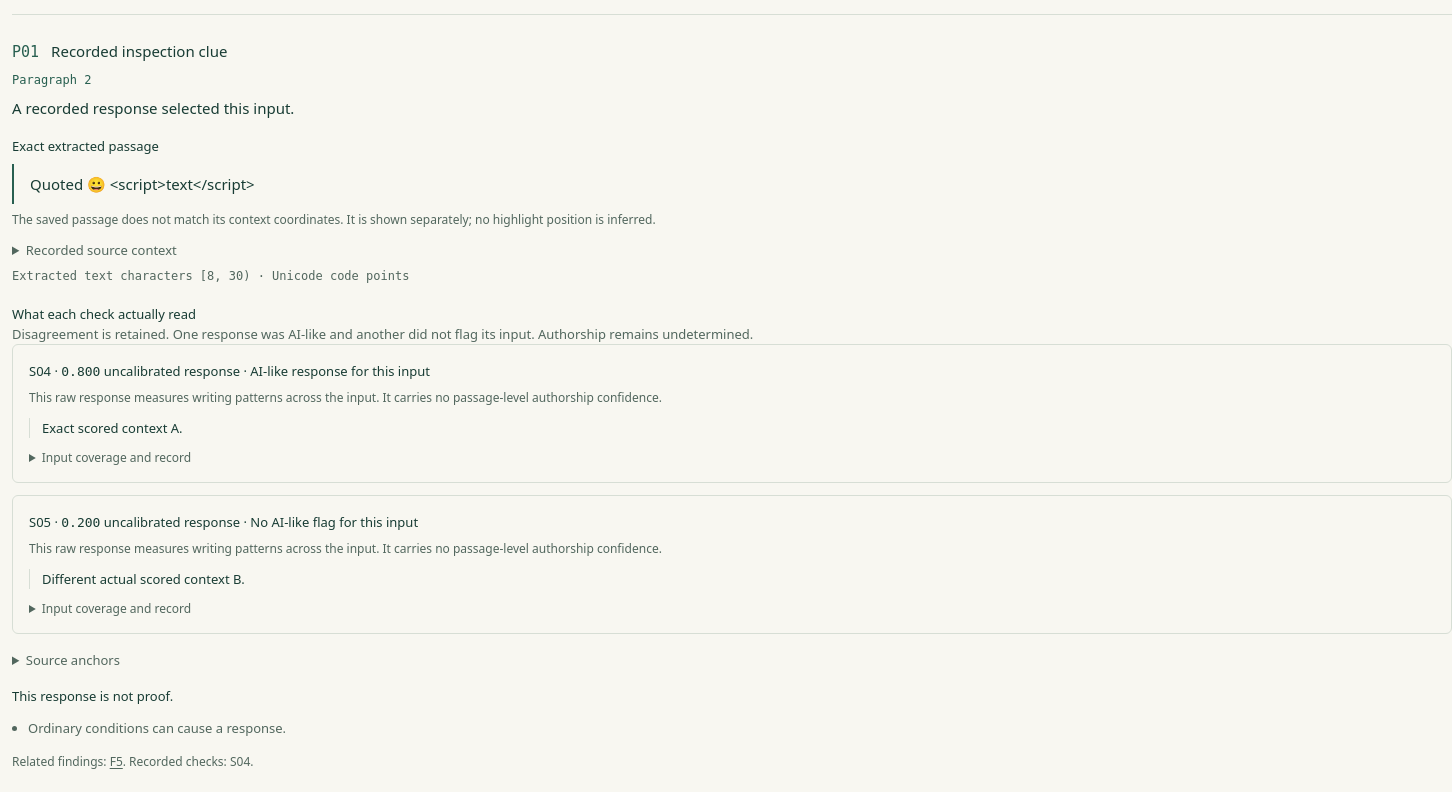
Test: ordinary multimedia evidence › labels the decoded Markdown paragraph separately from extracted document offsets
(page scrolled)
Click the heading "Source anchors": (73, 660) [26,651,120,669]
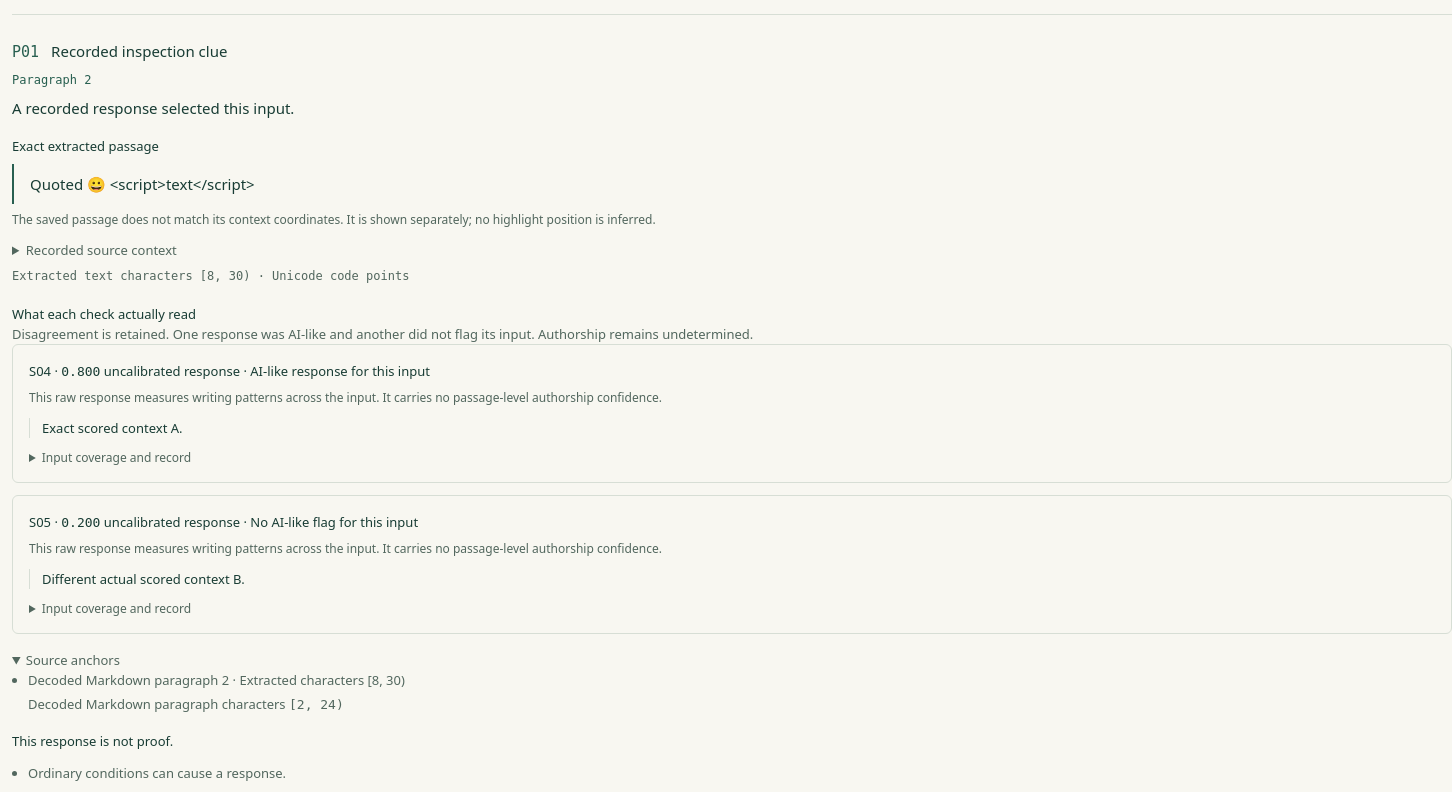
Expected: the list item that starts with "Decoded Markdown paragraph 2" shows "Decoded Markdown paragraph 2 · Extracted characters [8, 30)", [28,671,405,713]
Expected: the list item that starts with "Decoded Markdown paragraph 2" shows "Decoded Markdown paragraph characters [2, 24)", [28,671,405,713]
